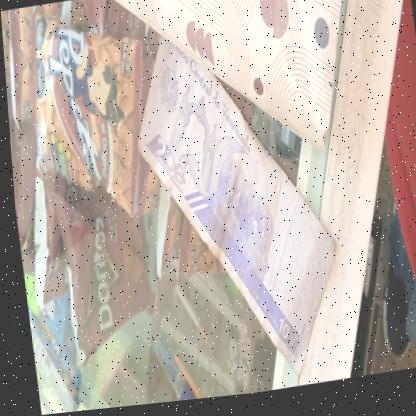ten-back-vef: (122, 21, 347, 403)
